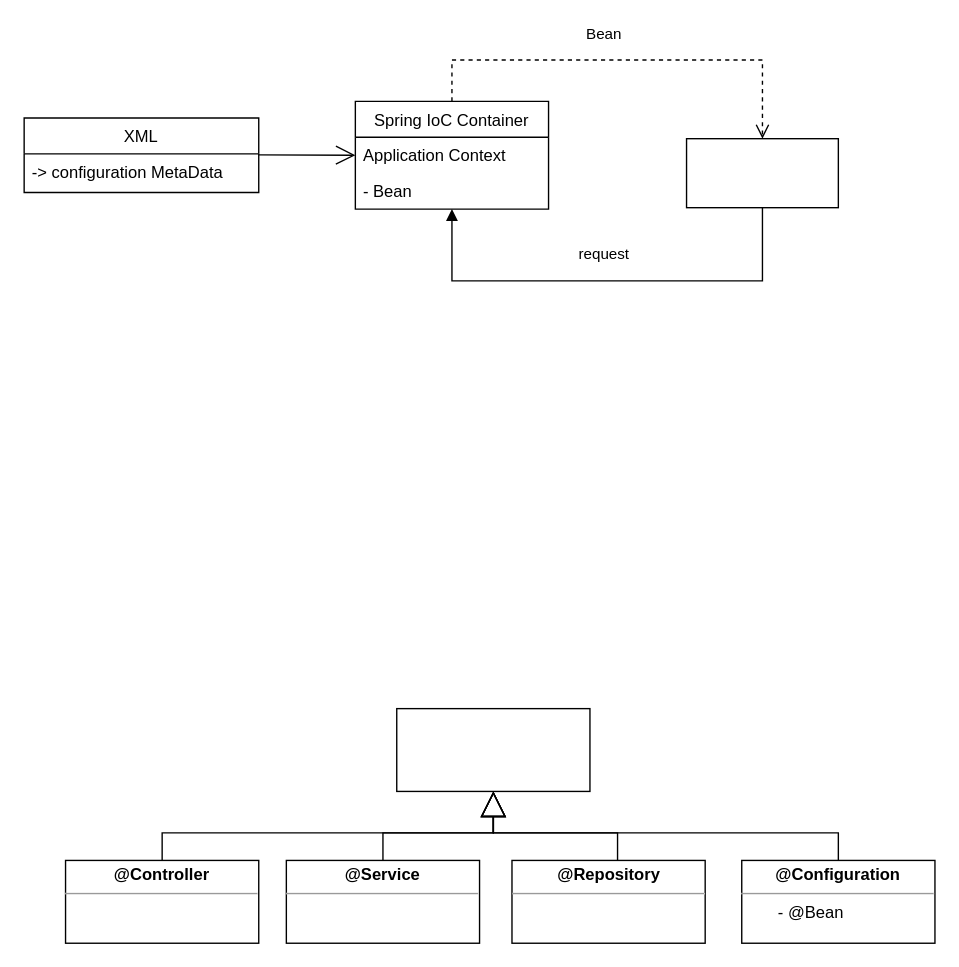
Image size: 959x967. Some labels were removed from this diagram. The shapes that lost their labels are listed below. From the top down, each one's centre as x and y in pixels, then its label:
point 761,172: Applicatino
point 492,749: @Component
